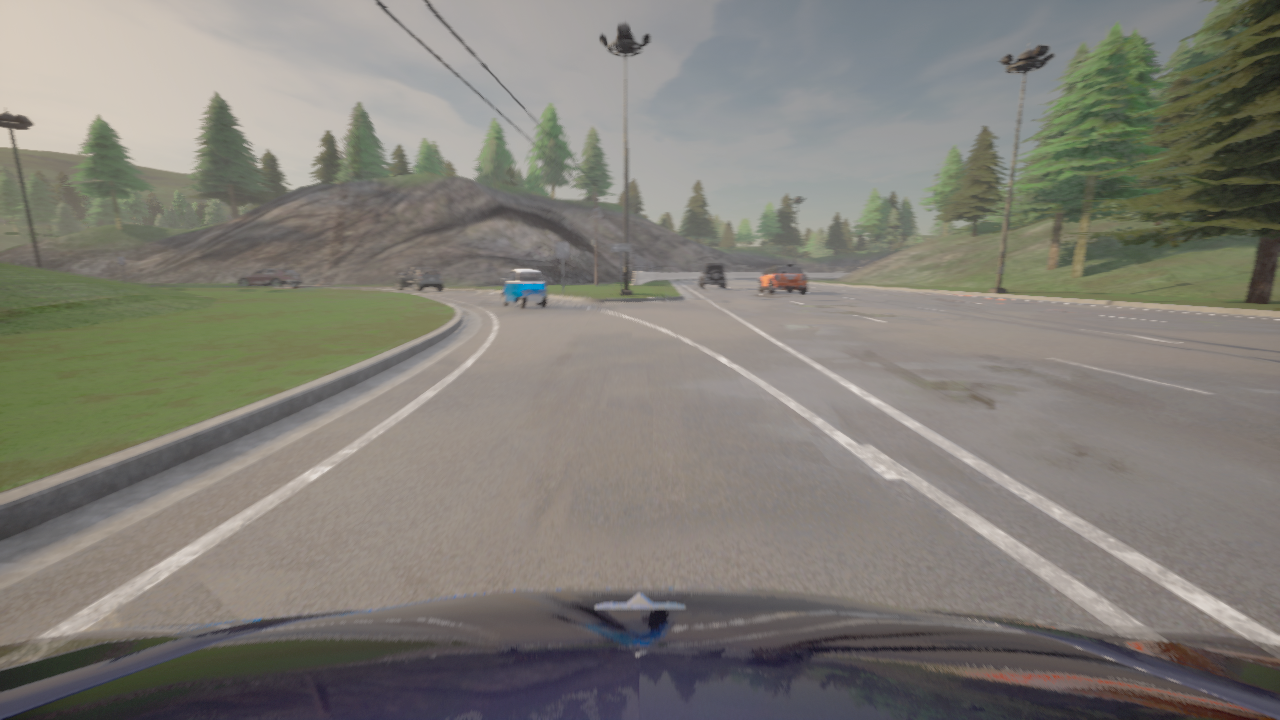cyclist: (0, 588, 1279, 719), (502, 268, 547, 308), (758, 265, 806, 293), (238, 268, 302, 287), (395, 267, 443, 292), (698, 264, 726, 288)
